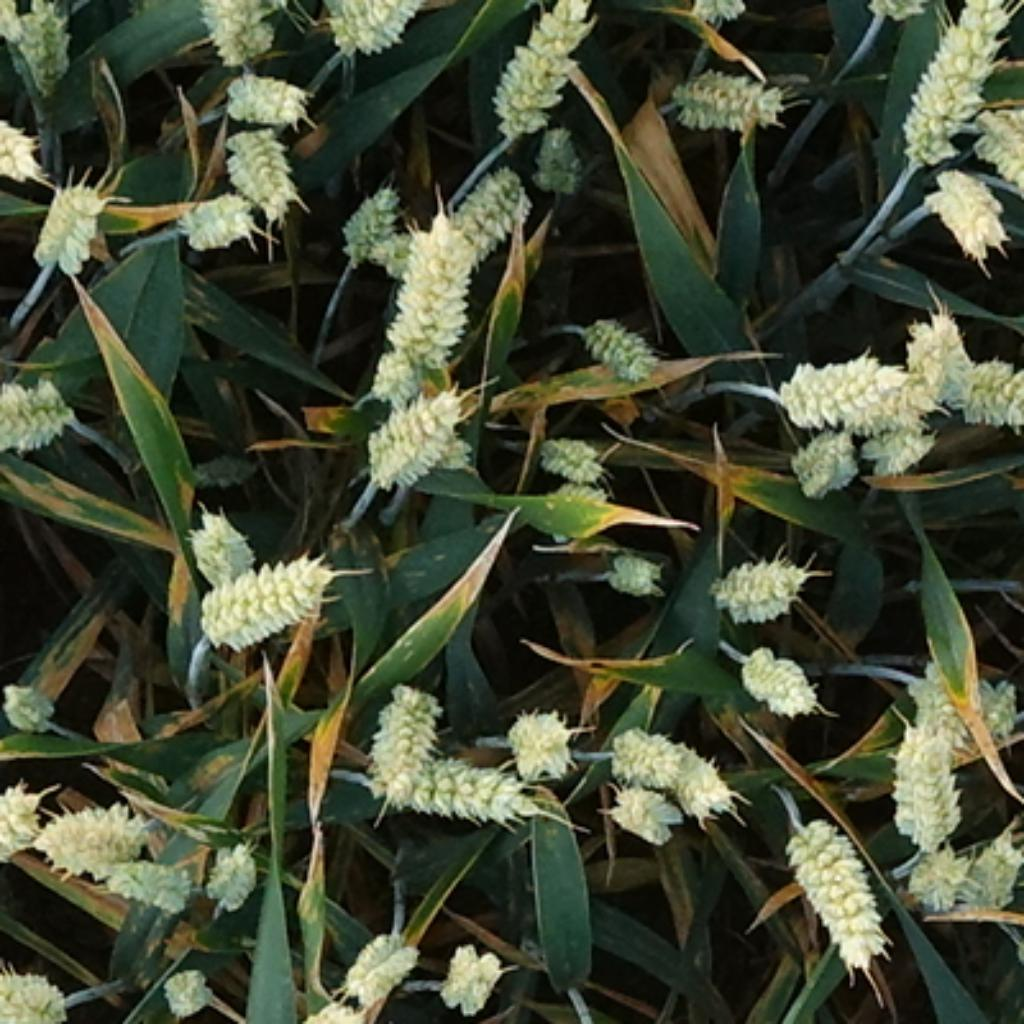0-0: (890, 0, 1021, 173), (778, 803, 890, 965), (189, 542, 343, 647), (880, 678, 972, 842), (483, 2, 596, 135), (392, 206, 472, 374), (770, 343, 926, 427), (381, 737, 535, 819), (375, 390, 483, 490), (660, 51, 788, 130), (921, 156, 1011, 268), (901, 826, 1024, 906), (360, 673, 445, 788), (35, 788, 151, 870), (706, 540, 814, 616), (30, 166, 110, 266), (536, 477, 640, 552), (310, 1, 429, 66), (609, 711, 704, 791), (340, 919, 422, 1011), (972, 89, 1024, 230), (729, 634, 819, 711), (228, 130, 307, 217), (573, 304, 665, 376), (454, 162, 530, 249), (663, 742, 742, 824), (2, 373, 79, 455), (949, 340, 1024, 424), (1, 0, 78, 81), (898, 304, 970, 389), (331, 184, 403, 266), (215, 58, 309, 120), (102, 844, 192, 906), (785, 417, 860, 491), (501, 696, 578, 768), (901, 842, 980, 911), (911, 668, 975, 752), (184, 504, 256, 576), (2, 954, 76, 1024), (434, 946, 503, 1018), (527, 112, 591, 189), (197, 2, 279, 61), (527, 422, 606, 478), (857, 419, 934, 476), (198, 842, 260, 911), (606, 775, 678, 834), (182, 191, 246, 254), (965, 663, 1021, 734), (596, 542, 663, 599), (156, 960, 215, 1016), (2, 670, 58, 727), (0, 787, 37, 866), (370, 345, 426, 396), (2, 115, 43, 184), (432, 438, 475, 474)
